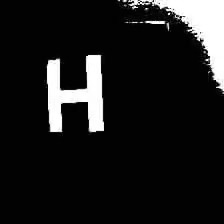LTR_H: (41, 47, 108, 135)
